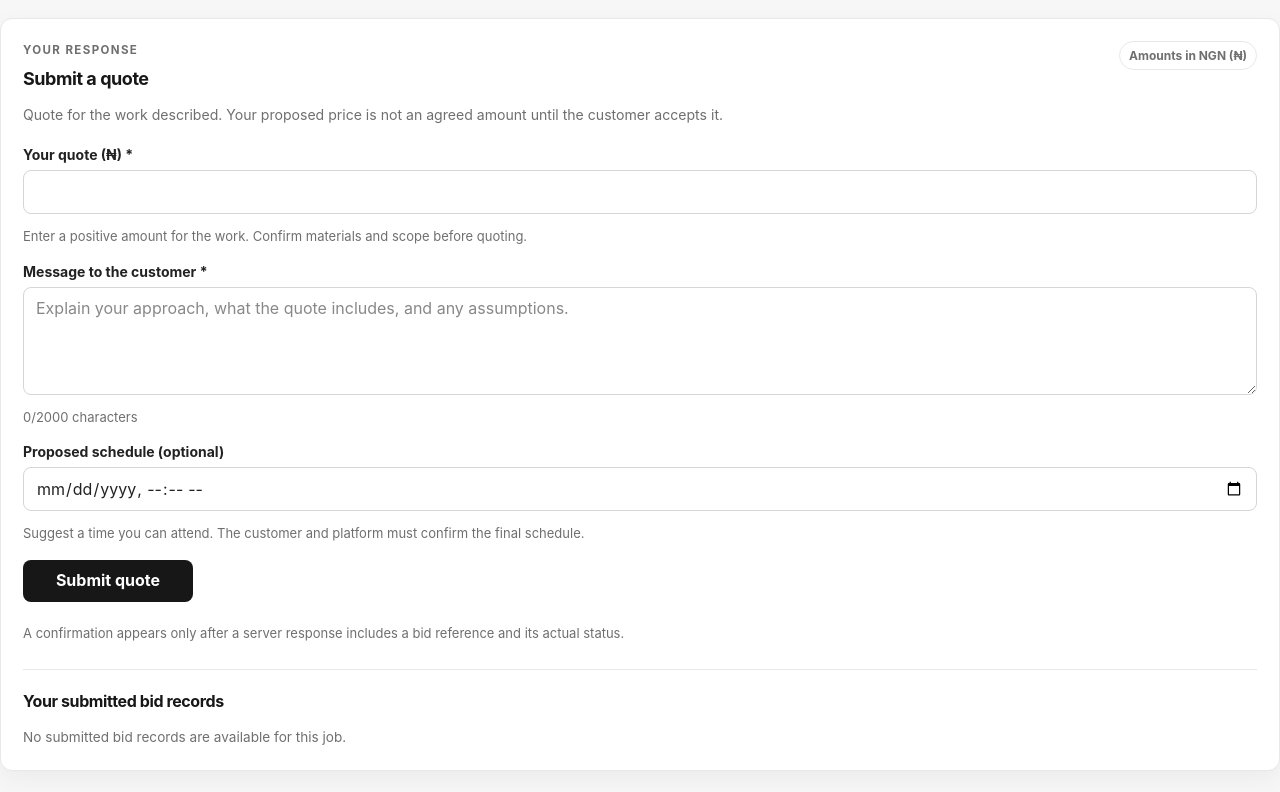
Test: provider bid workflow › prevents duplicate submissions from rapid clicks
Type "24500" into the number field labelled "Your quote (₦) *" at (640, 192), box [23,170,1257,214]
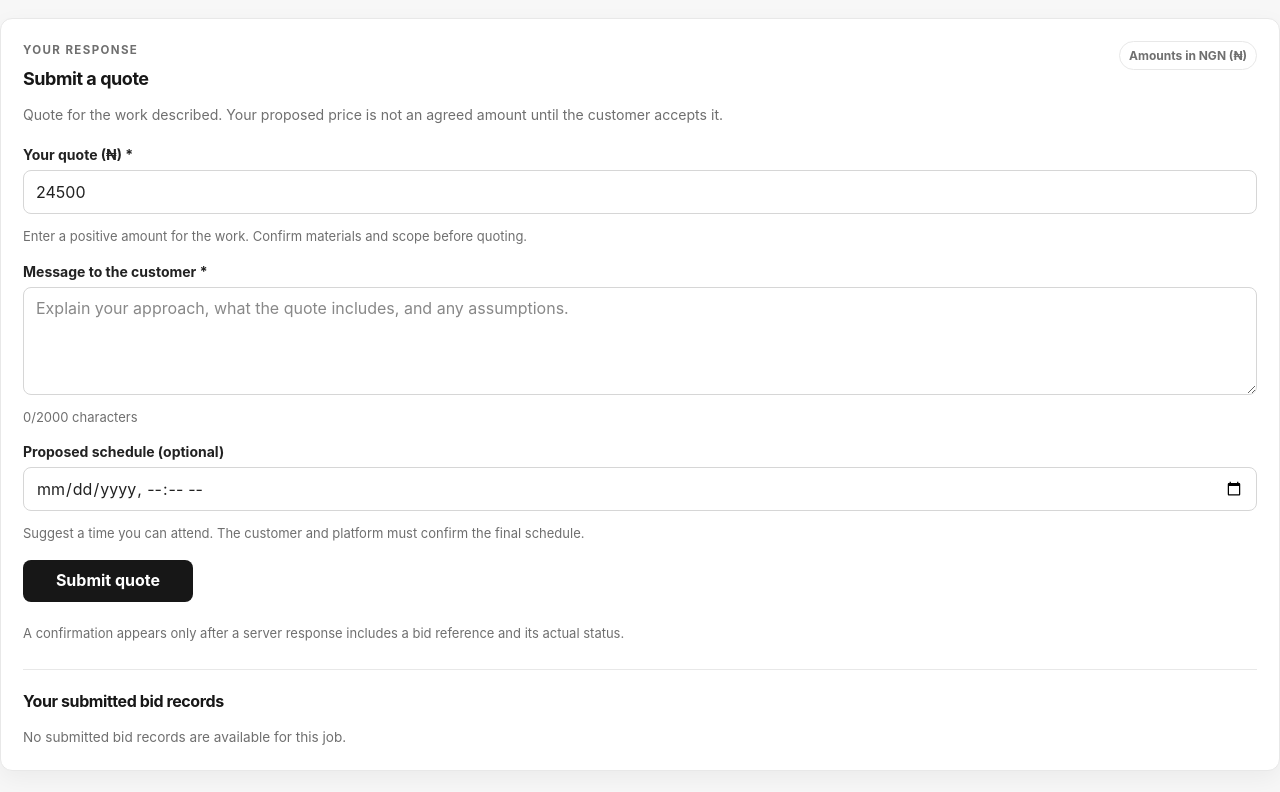
Replace the text in the text box labelled "Message to the customer *" with "I will inspect the pipe joint and include standard fittings." at (640, 341), box [23,287,1257,395]
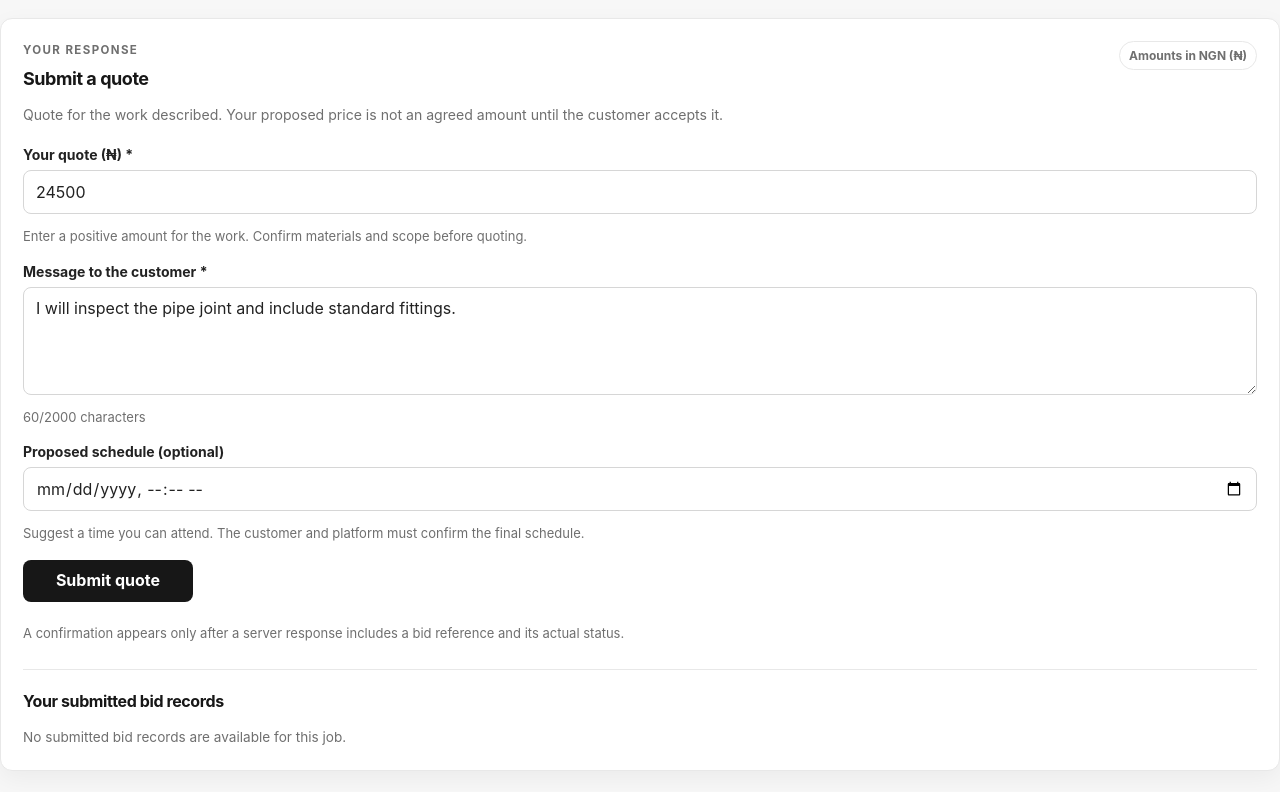
Click the button "Submit quote" at (108, 581), box [23,560,193,602]
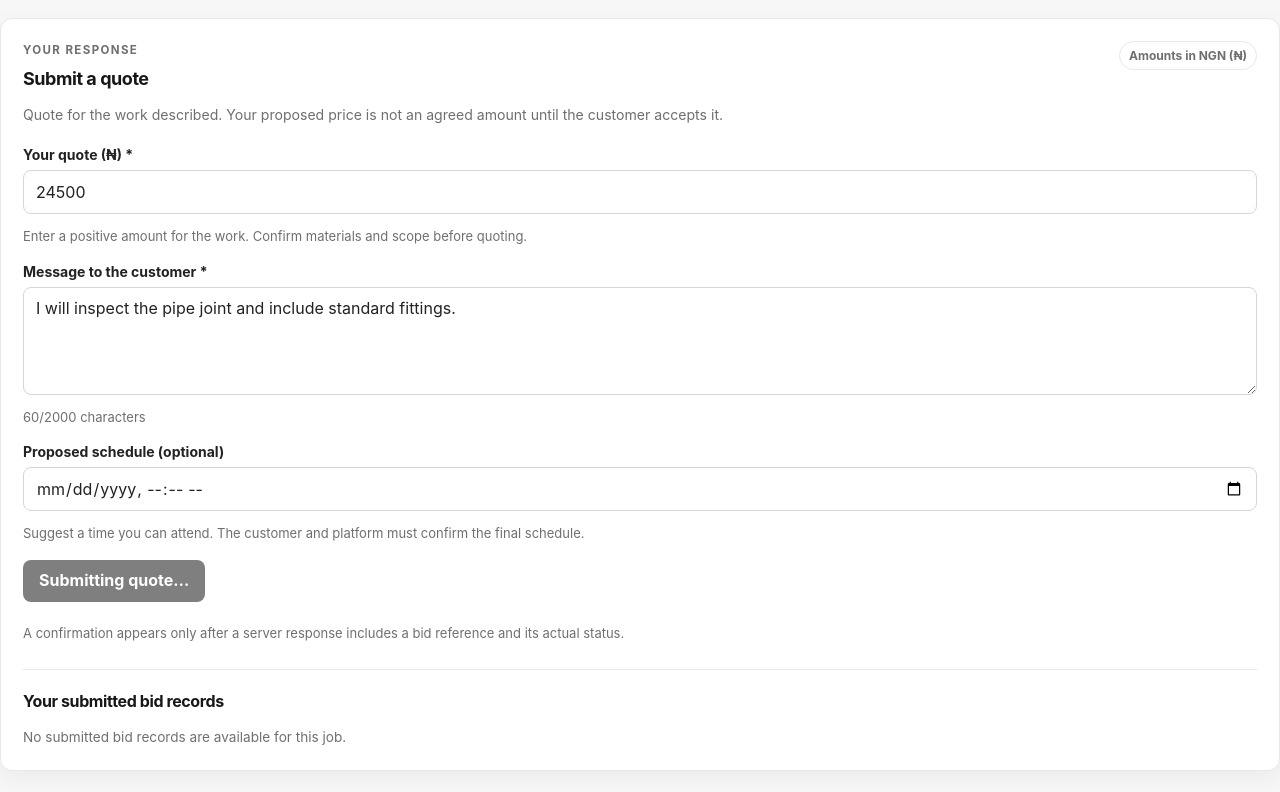
Click the button "Submitting quote…" at (114, 581), box [23,560,205,602]
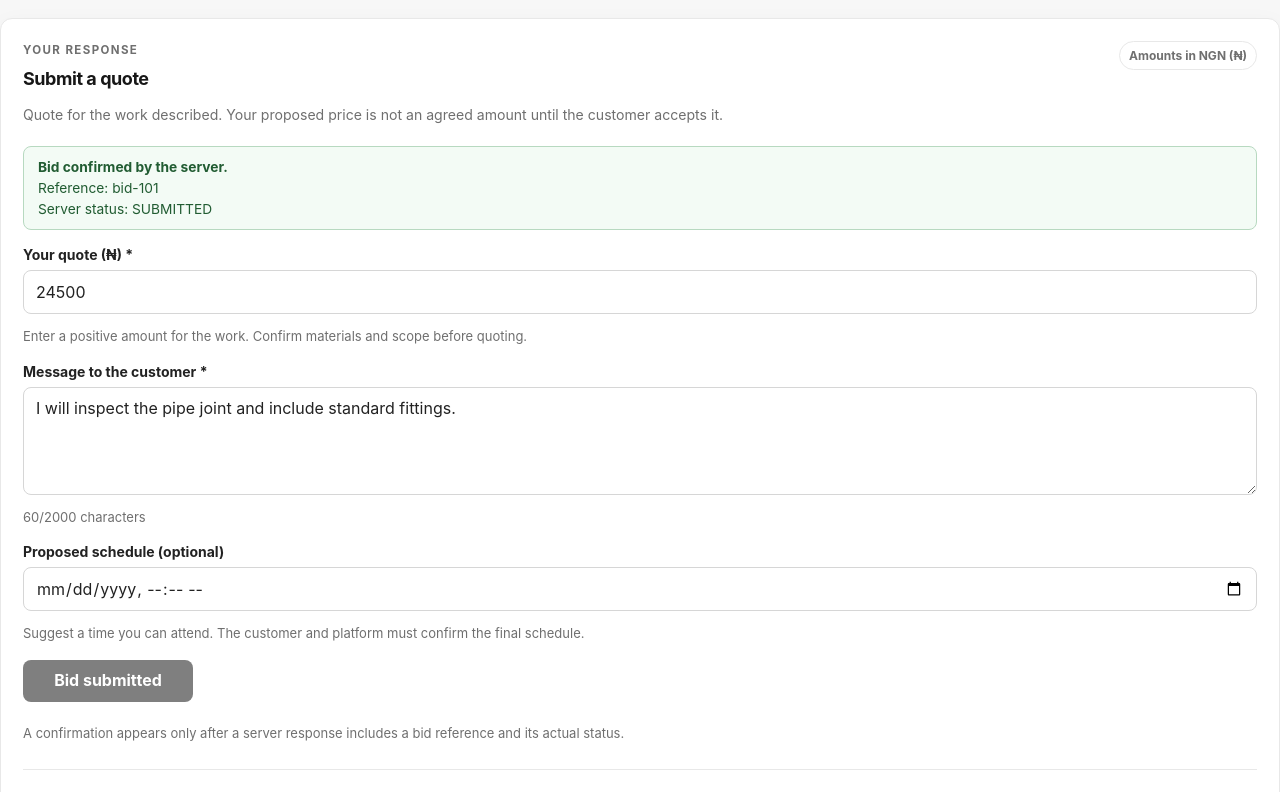
Result: the text "Bid confirmed by the server." is shown at [38,159,228,175]
